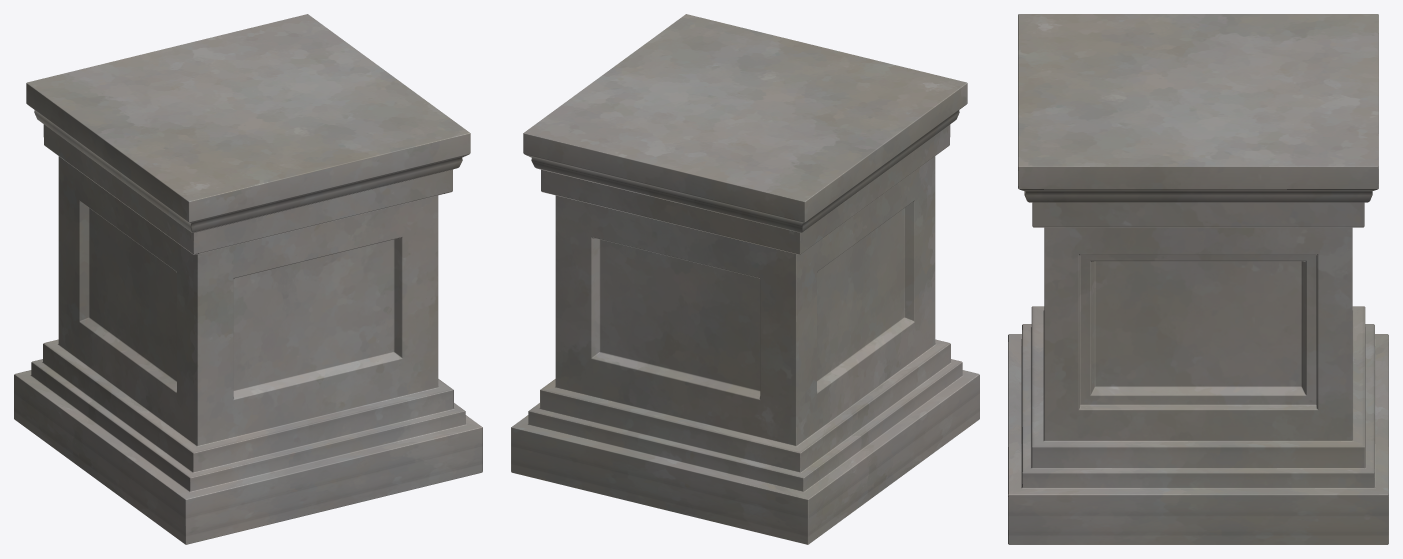
The model's file is SM_Socle.fbx.
3 views of the same model, side by side, from view 1: azimuth 30°, elevation 25°; view 2: azimuth 150°, elevation 25°; view 3: azimuth 270°, elevation 25° (orthographic). The views are drawn at different scales.
Parts seen in each view (by area): view 1: SM_Socle_LOD0; view 2: SM_Socle_LOD0; view 3: SM_Socle_LOD0.
Part boxes in pixels (x1,y1,x2,y2): SM_Socle_LOD0: [14, 14, 482, 544]; SM_Socle_LOD0: [511, 14, 979, 544]; SM_Socle_LOD0: [1008, 14, 1388, 544].
Size of the model in its own units: 276 by 276 by 300.
Materials: 1 (1 with a texture image).
